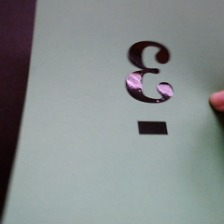green3: (118, 35, 183, 139)
